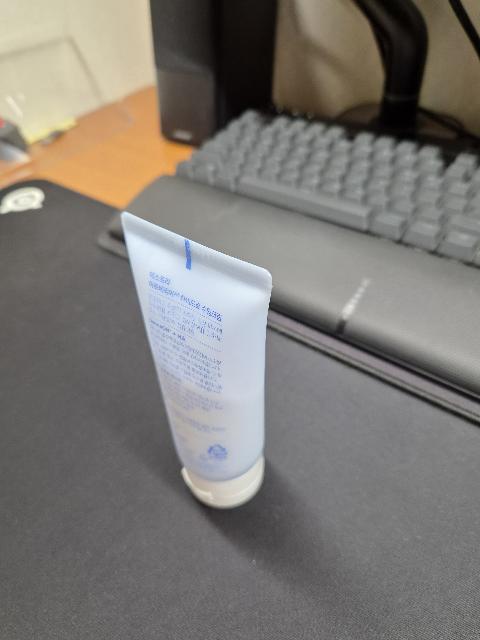handcream: (121, 212, 273, 506)
